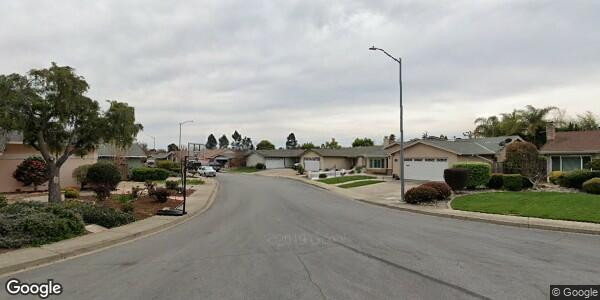Steel_Pole: (366, 43, 406, 201), (176, 117, 196, 151)
